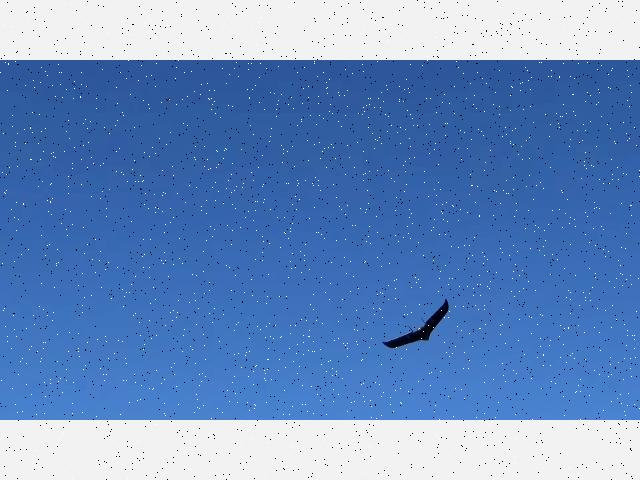Anti-Drone: (374, 294, 462, 350)
